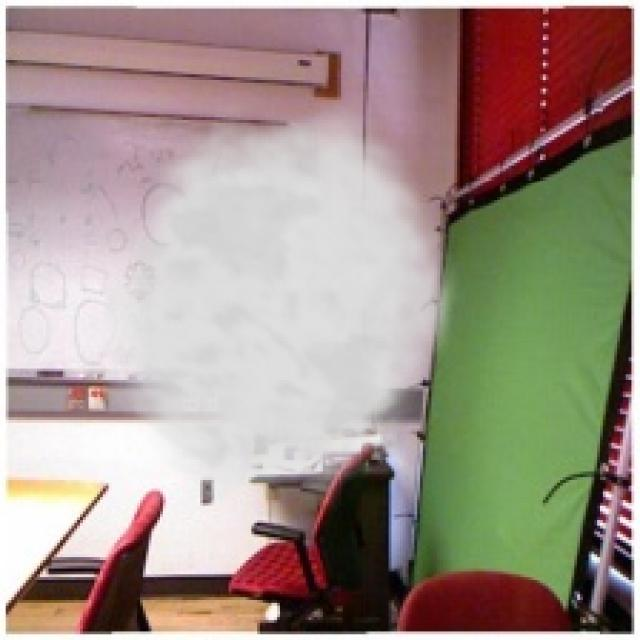smoke: (83, 91, 466, 512)
